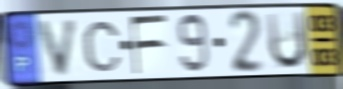2: (227, 6, 266, 78)
9: (177, 11, 212, 76)
C: (81, 19, 124, 74)
F: (128, 13, 170, 78)
U: (264, 9, 310, 72)
V: (36, 17, 82, 79)
